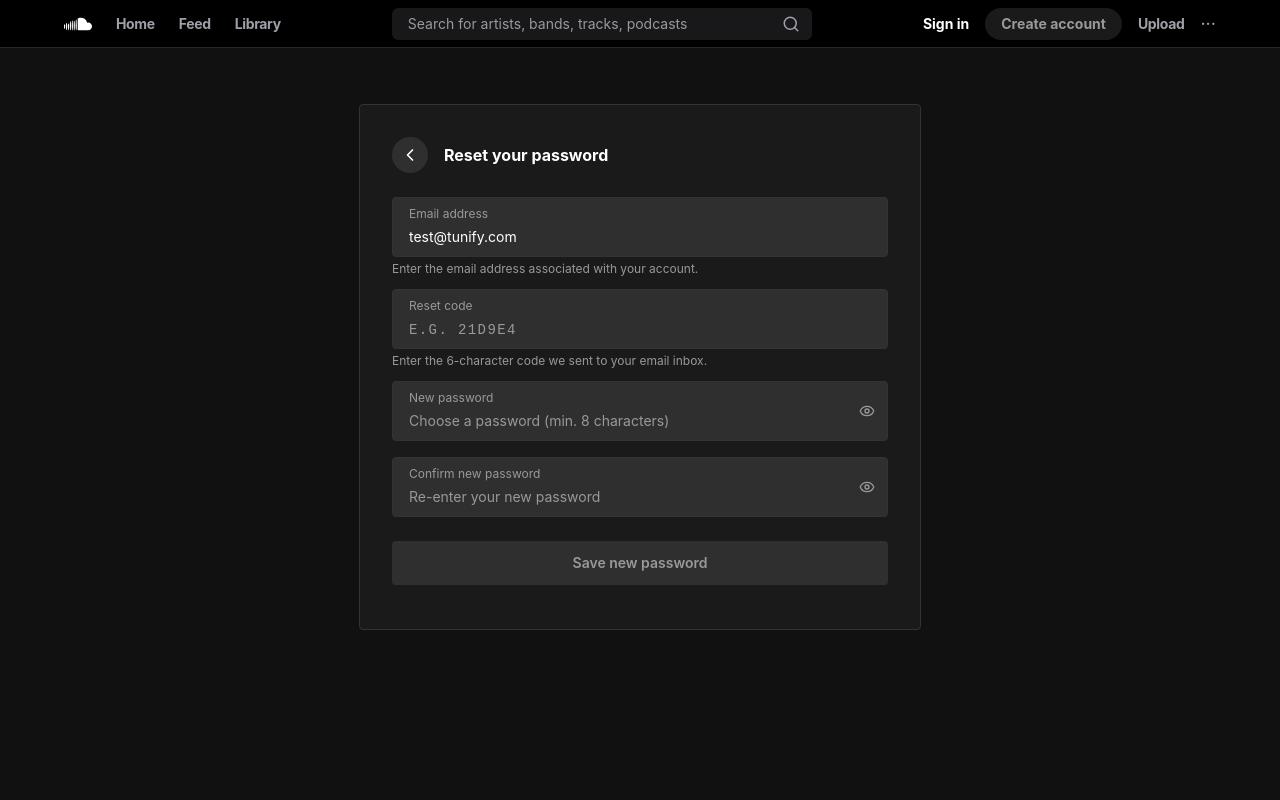
Test: ResetPasswordPage — extra coverage › handles token error message
Type "ABC123" into the field with placeholder "e.g. 21D9E4" at coordinates (640, 330), box [409,320,871,340]
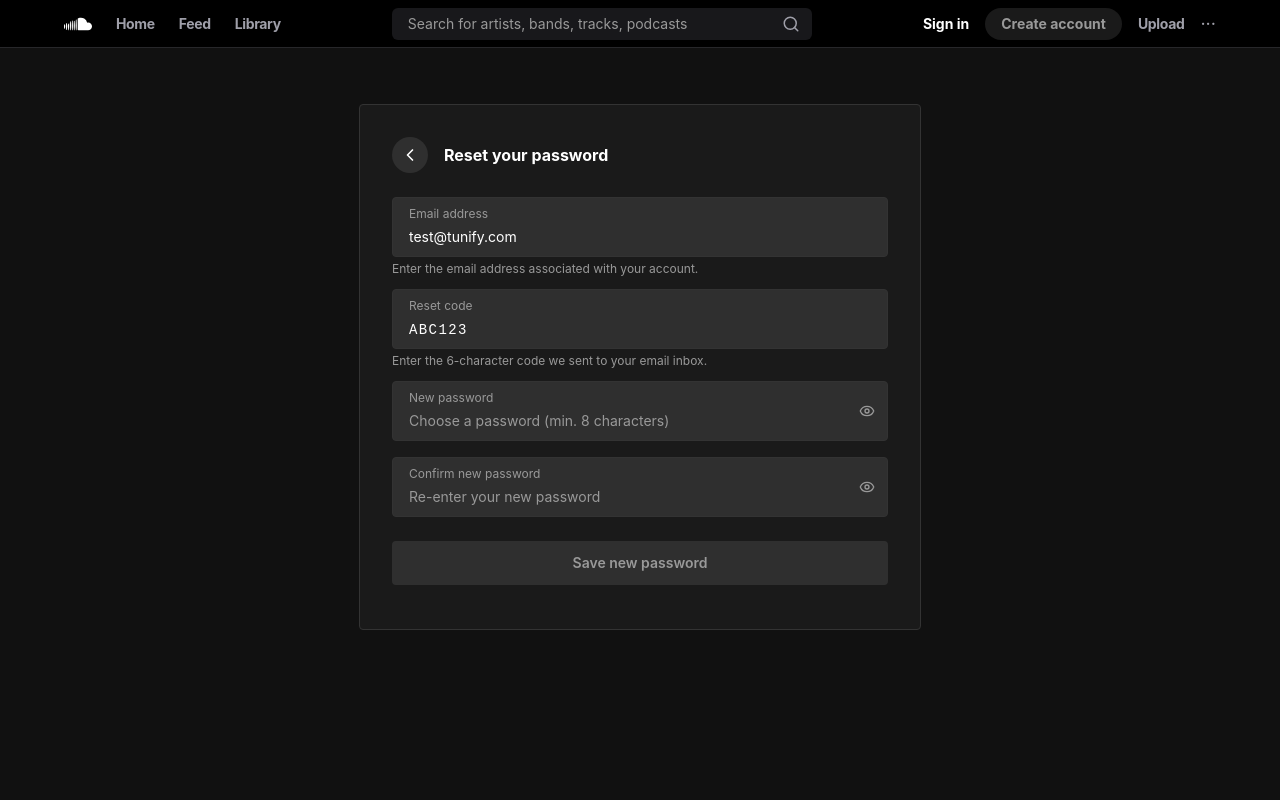
Type "Test@1234" into the password field with placeholder "Choose a password (min. 8 characters)" at coordinates (640, 421), box [409,411,871,431]
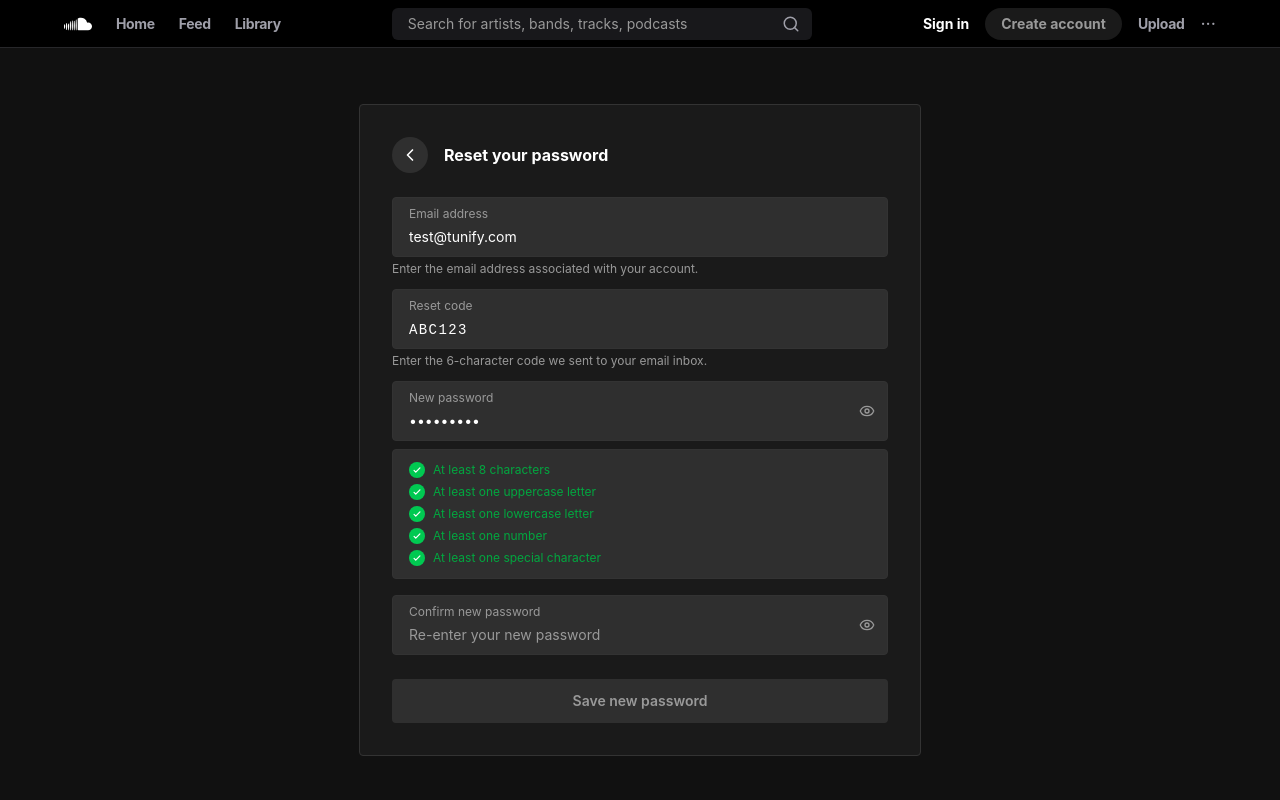
Type "Test@1234" into the password field with placeholder "Re-enter your new password" at coordinates (640, 635), box [409,625,871,645]
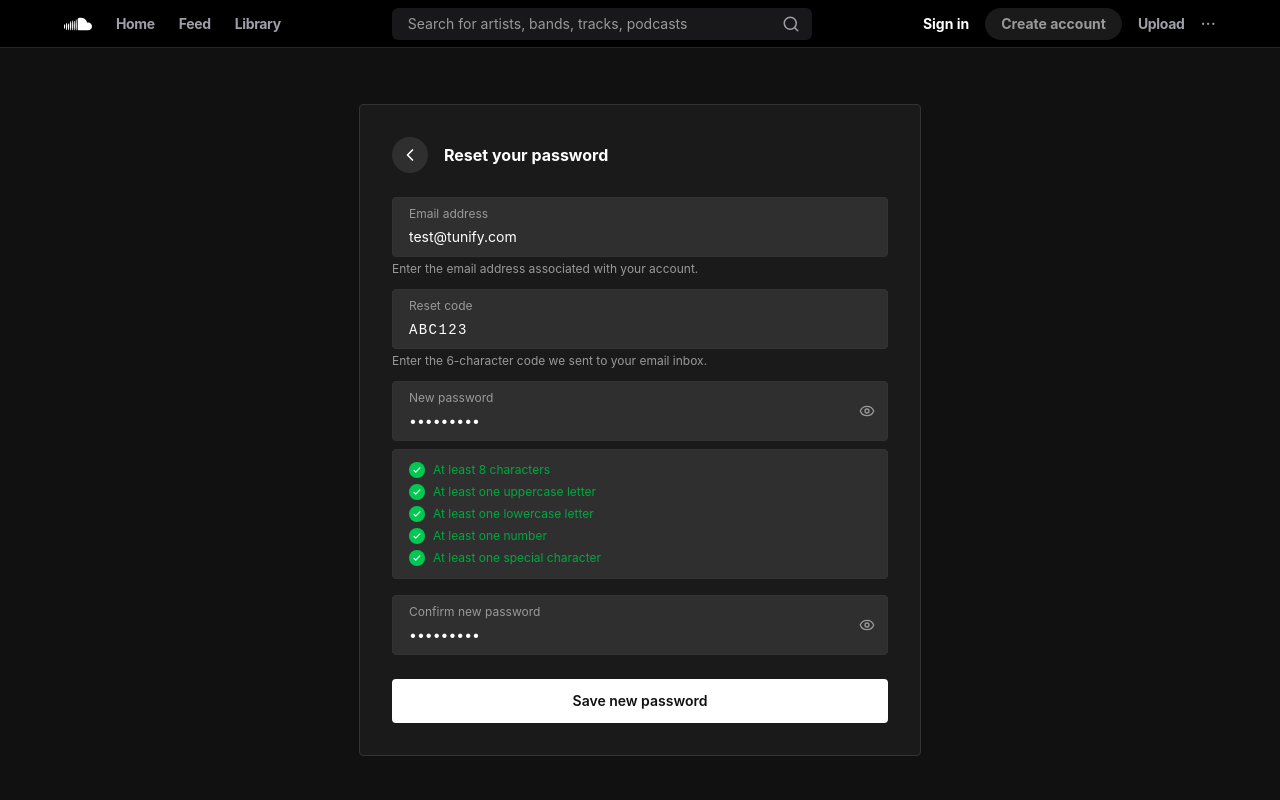
Click the button "Save new password" at coordinates (640, 701), box [392,679,888,723]
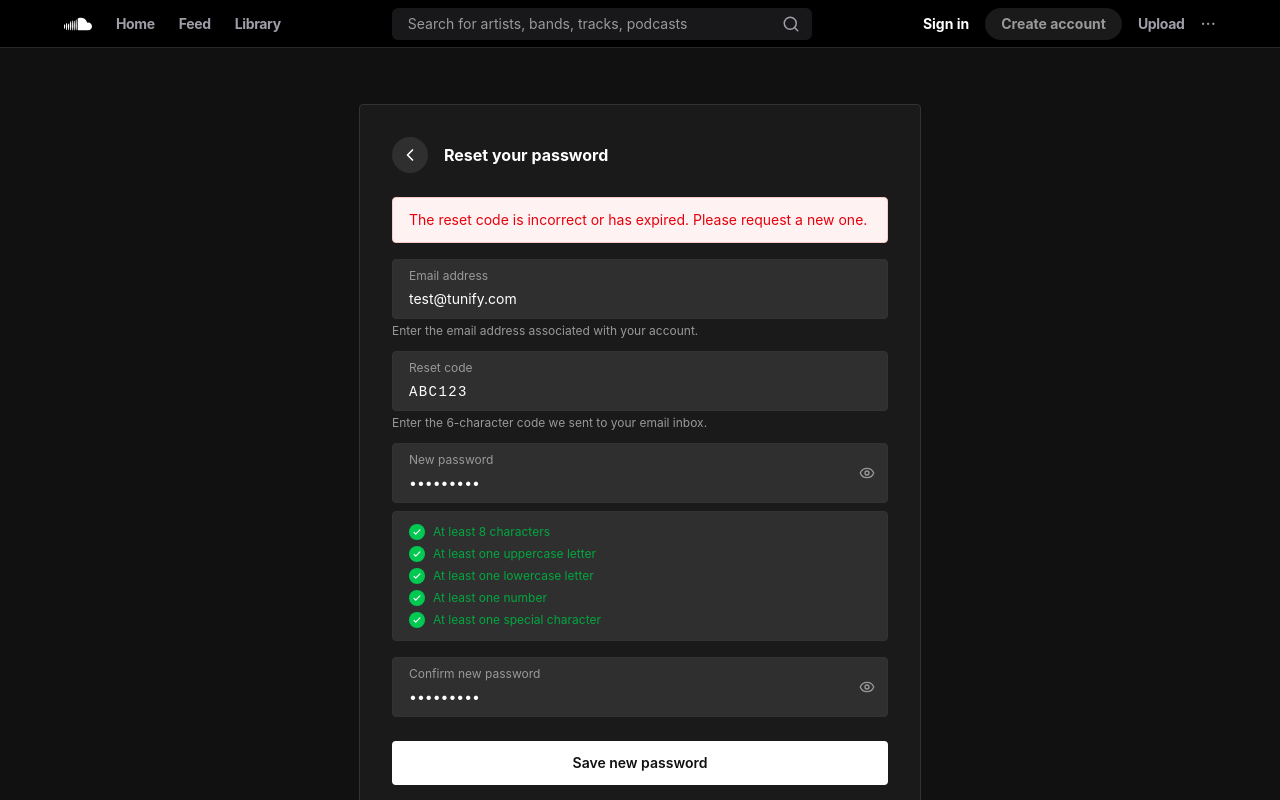
Result: the text "The reset code is incorrect or has expired. Please request a new one." is shown at [392,197,888,243]
